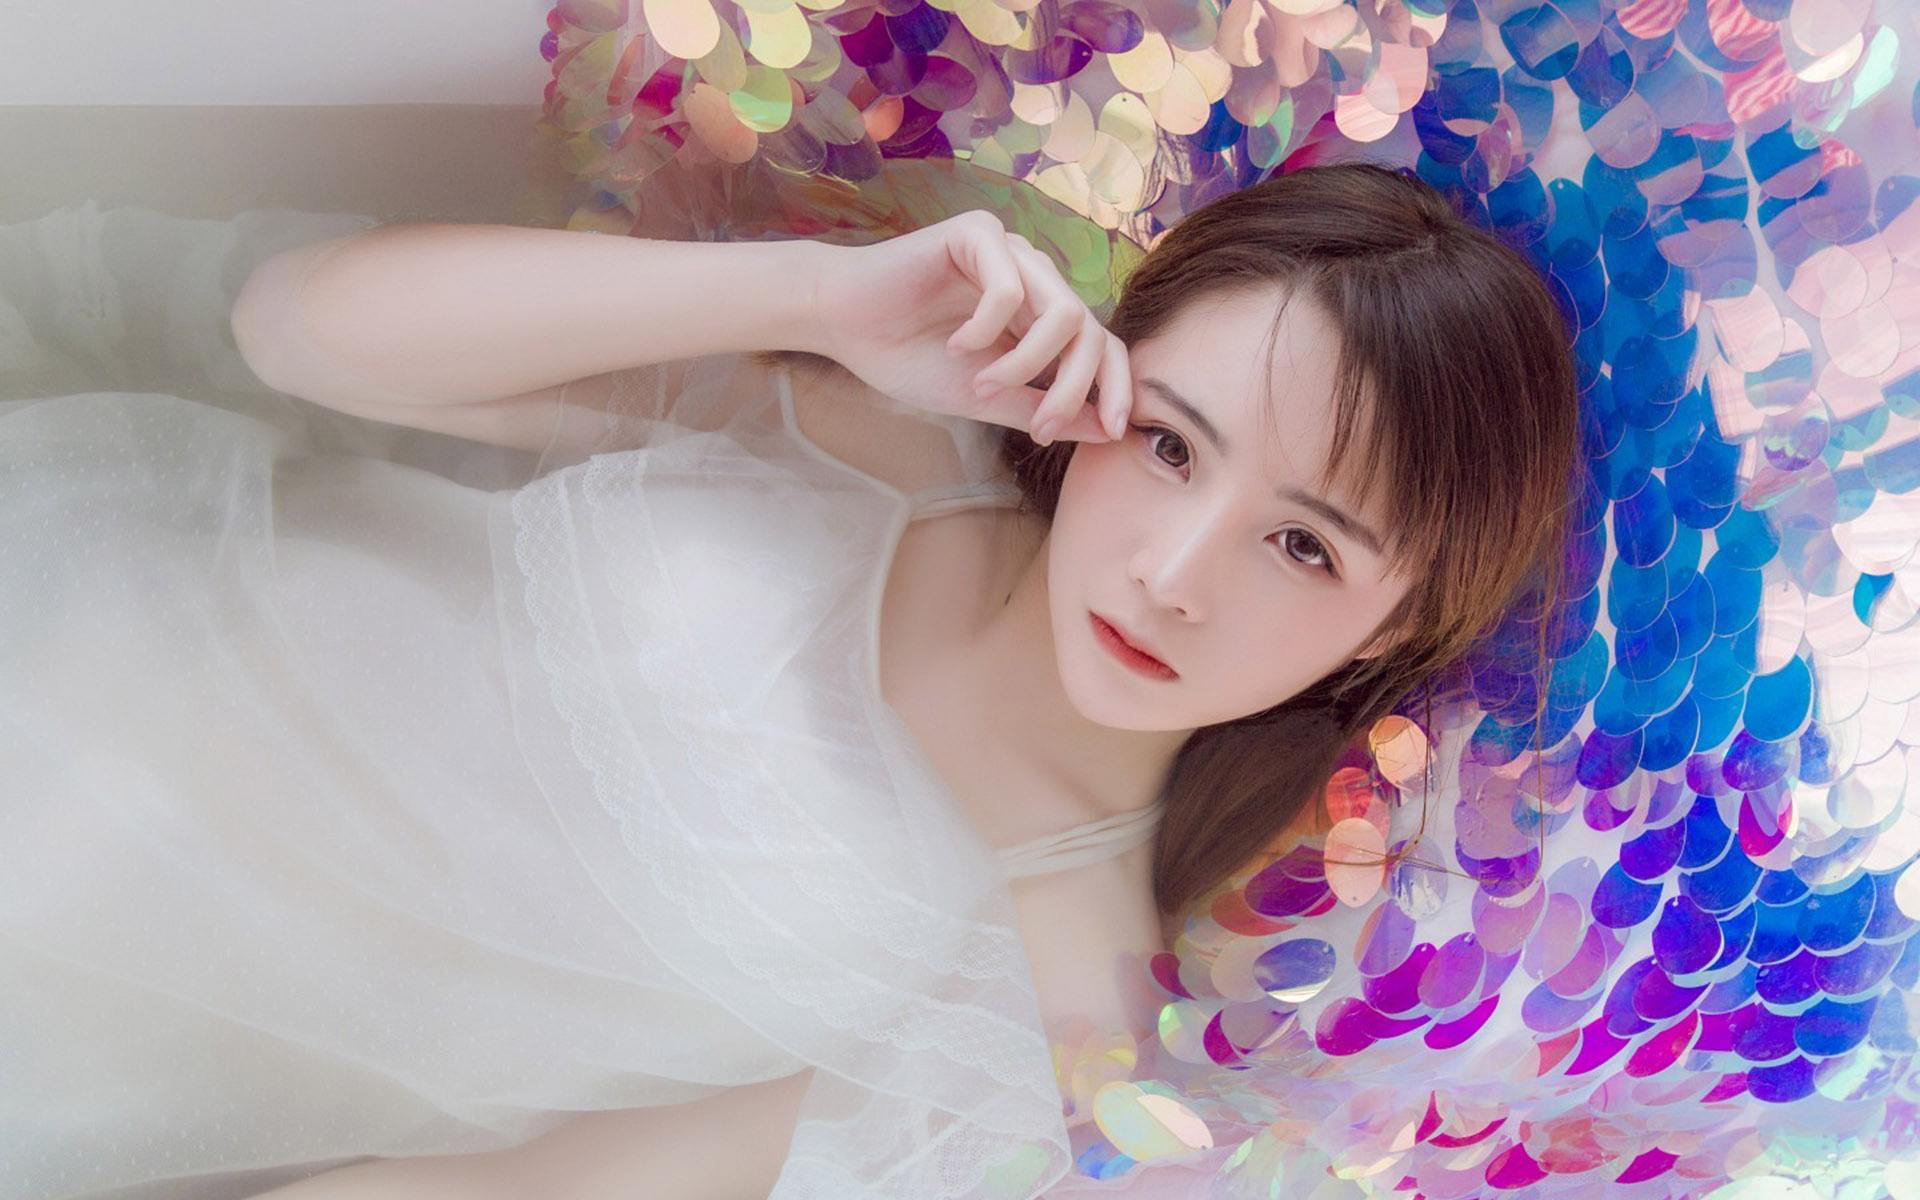person: (70, 149, 1666, 1130)
